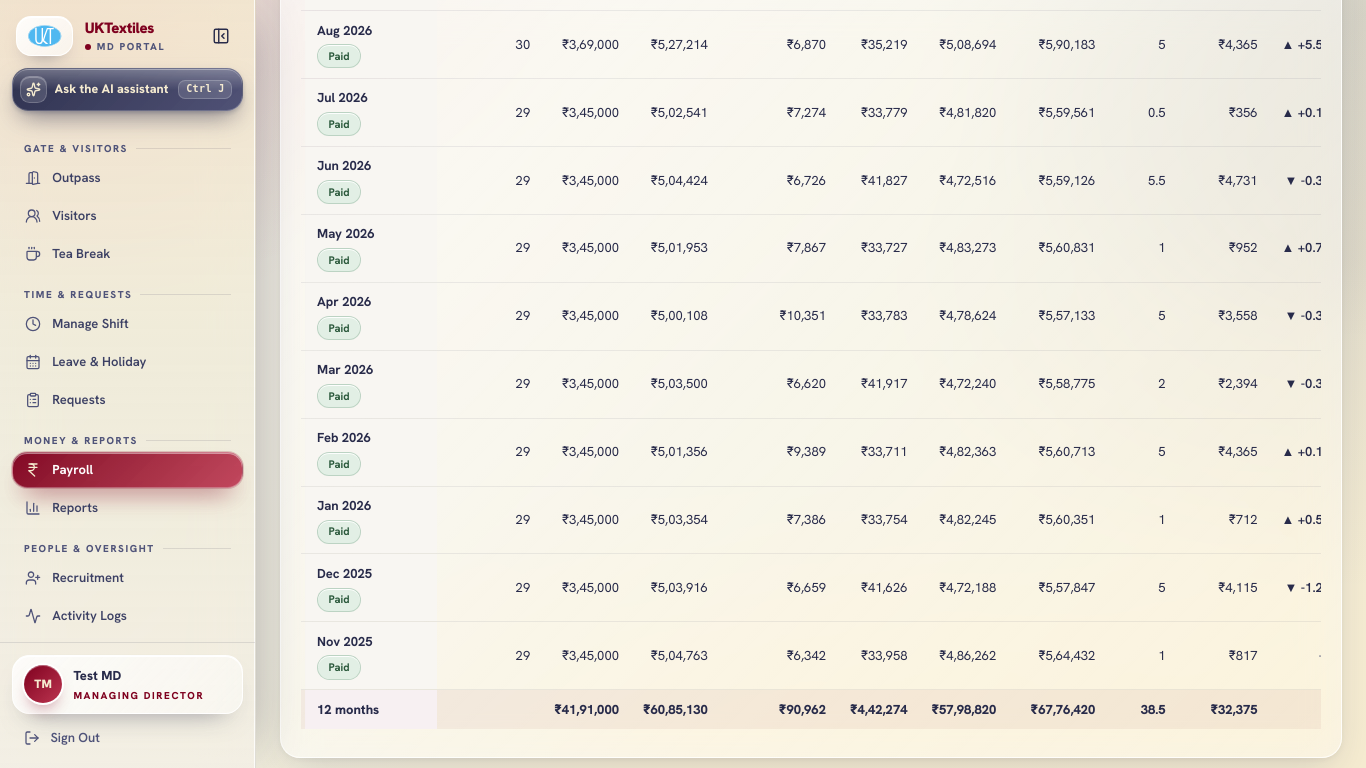
Test: Monthly tab › lists every month, newest first, with a totals row, and opens a month from the table
(page scrolled)
Click the row with test id "row-2026-03" at (823, 384), box x1=301 y1=350 x2=1344 y2=418
(page scrolled)
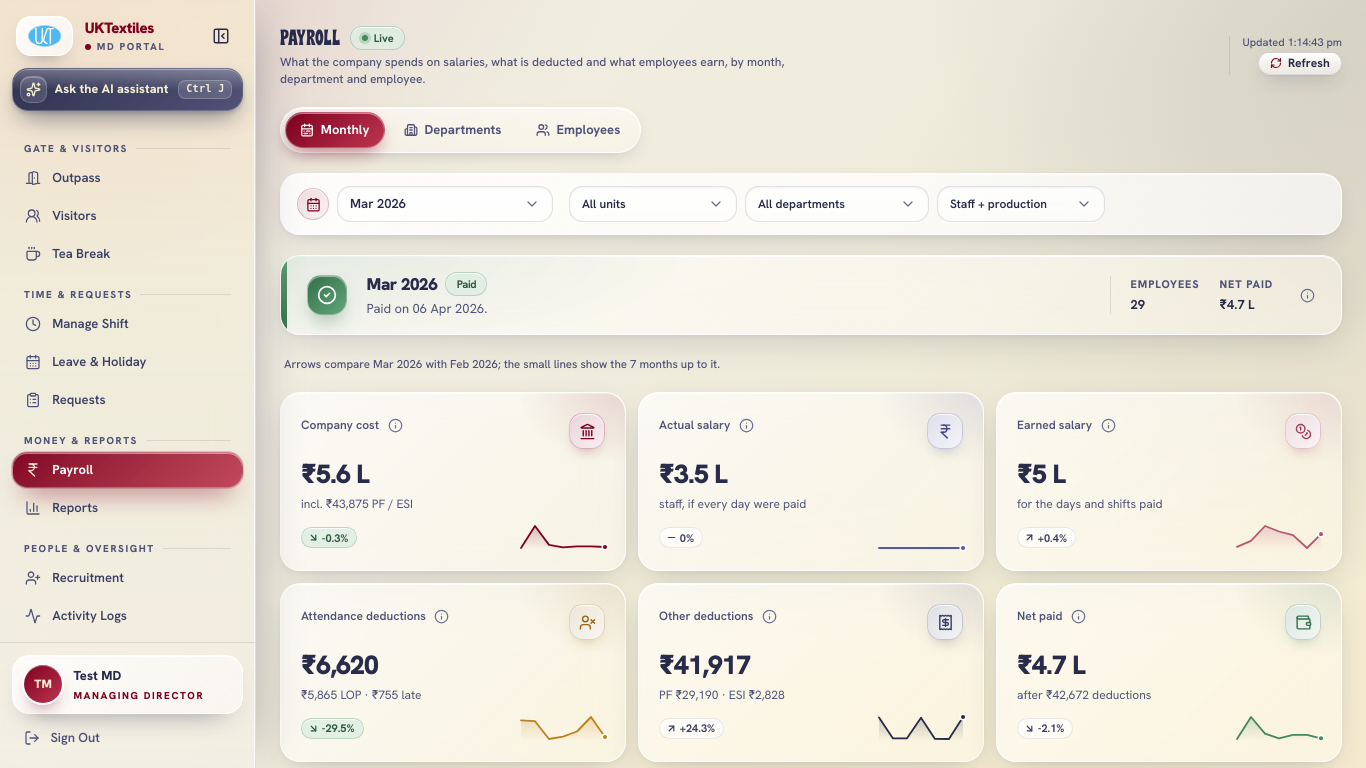
Check: the 1st text "Mar 2026" is shown, box x1=350 y1=194 x2=406 y2=214
